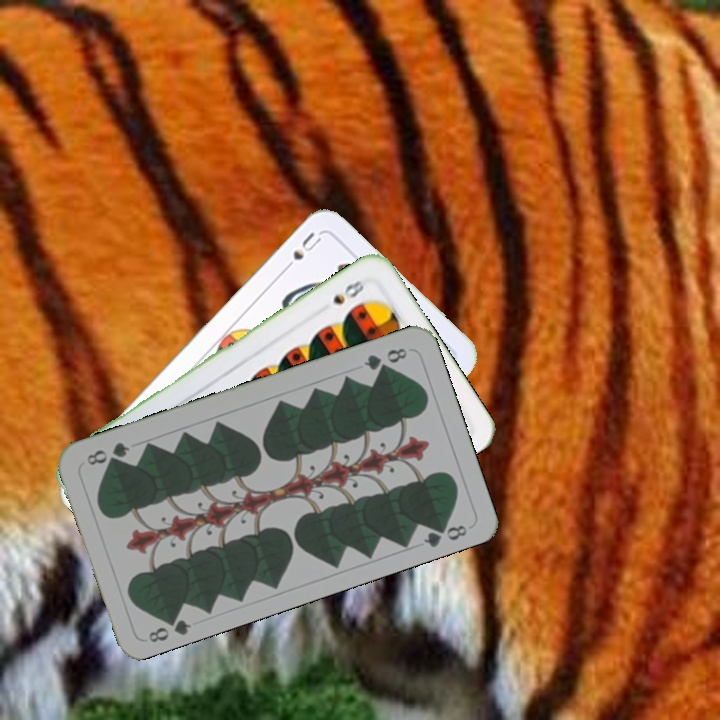G8: (144, 609, 194, 646), (359, 344, 410, 373)
S8: (329, 273, 370, 307)
SU: (277, 228, 324, 276)
